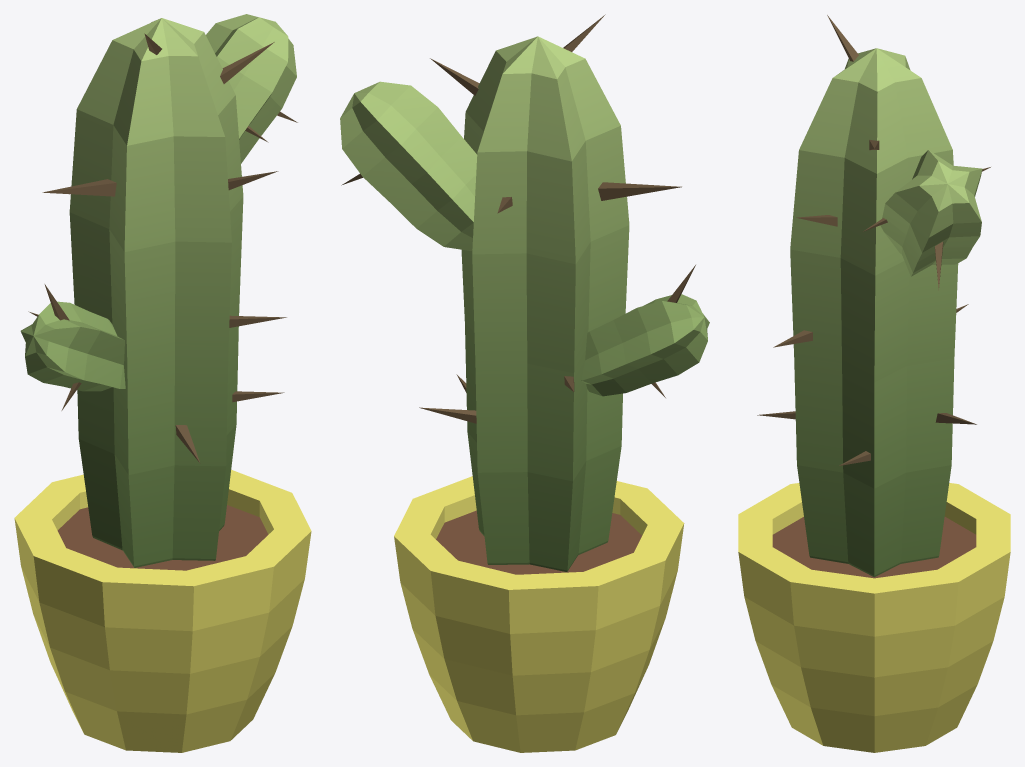
The model's file is Plant_13.fbx.
3 renders of one model, left to right at view 1: azimuth 30°, elevation 25°; view 2: azimuth 150°, elevation 25°; view 3: azimuth 270°, elevation 25°, orthographic. The views are drawn at different scales.
Visible parts, largest first — view 1: Plant_13; view 2: Plant_13; view 3: Plant_13.
Boxes of the visible parts, bbox=[...] form: Plant_13: bbox=[14, 14, 311, 752]; Plant_13: bbox=[340, 14, 709, 752]; Plant_13: bbox=[738, 15, 1010, 752].
Size of the model in its own units: 18.98 by 39.69 by 14.37.
